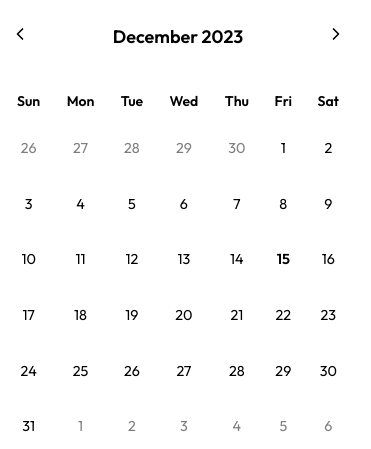
Test: Calendar Component › Edge Cases › handles year transitions
What coordinates should you click on to do the following:
click the button named "Next month"
I would click on:
 (336, 36)
Its box is [318, 16, 354, 56].
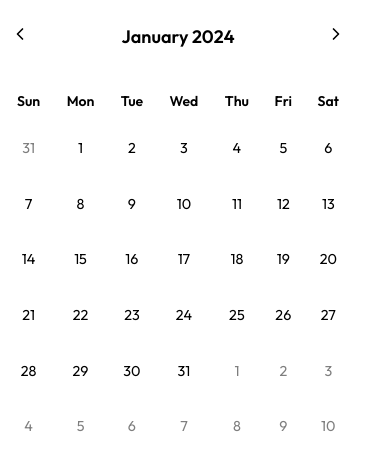
Expected: the heading "January 2024" is shown, [122, 24, 235, 48]
